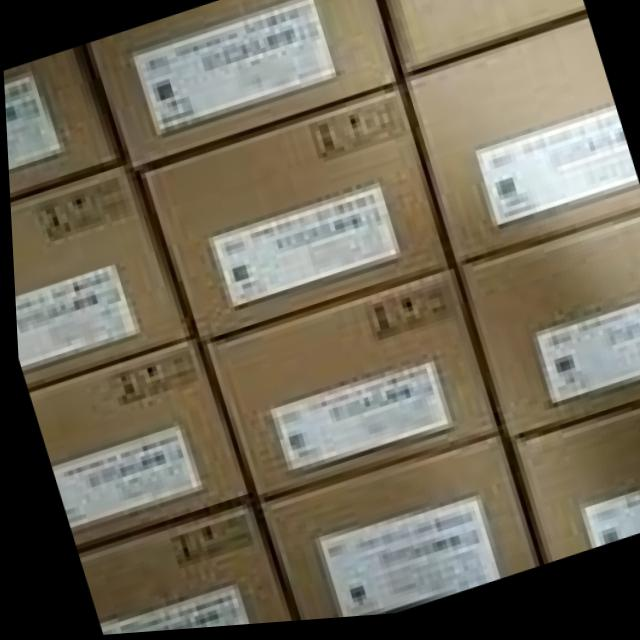box: (140, 92, 447, 344), (198, 274, 495, 500), (402, 22, 640, 269), (92, 0, 400, 174), (255, 444, 532, 624), (28, 344, 246, 548), (449, 225, 640, 445), (8, 166, 190, 387), (75, 505, 293, 636), (509, 411, 640, 568), (3, 47, 121, 197), (380, 0, 585, 86)
